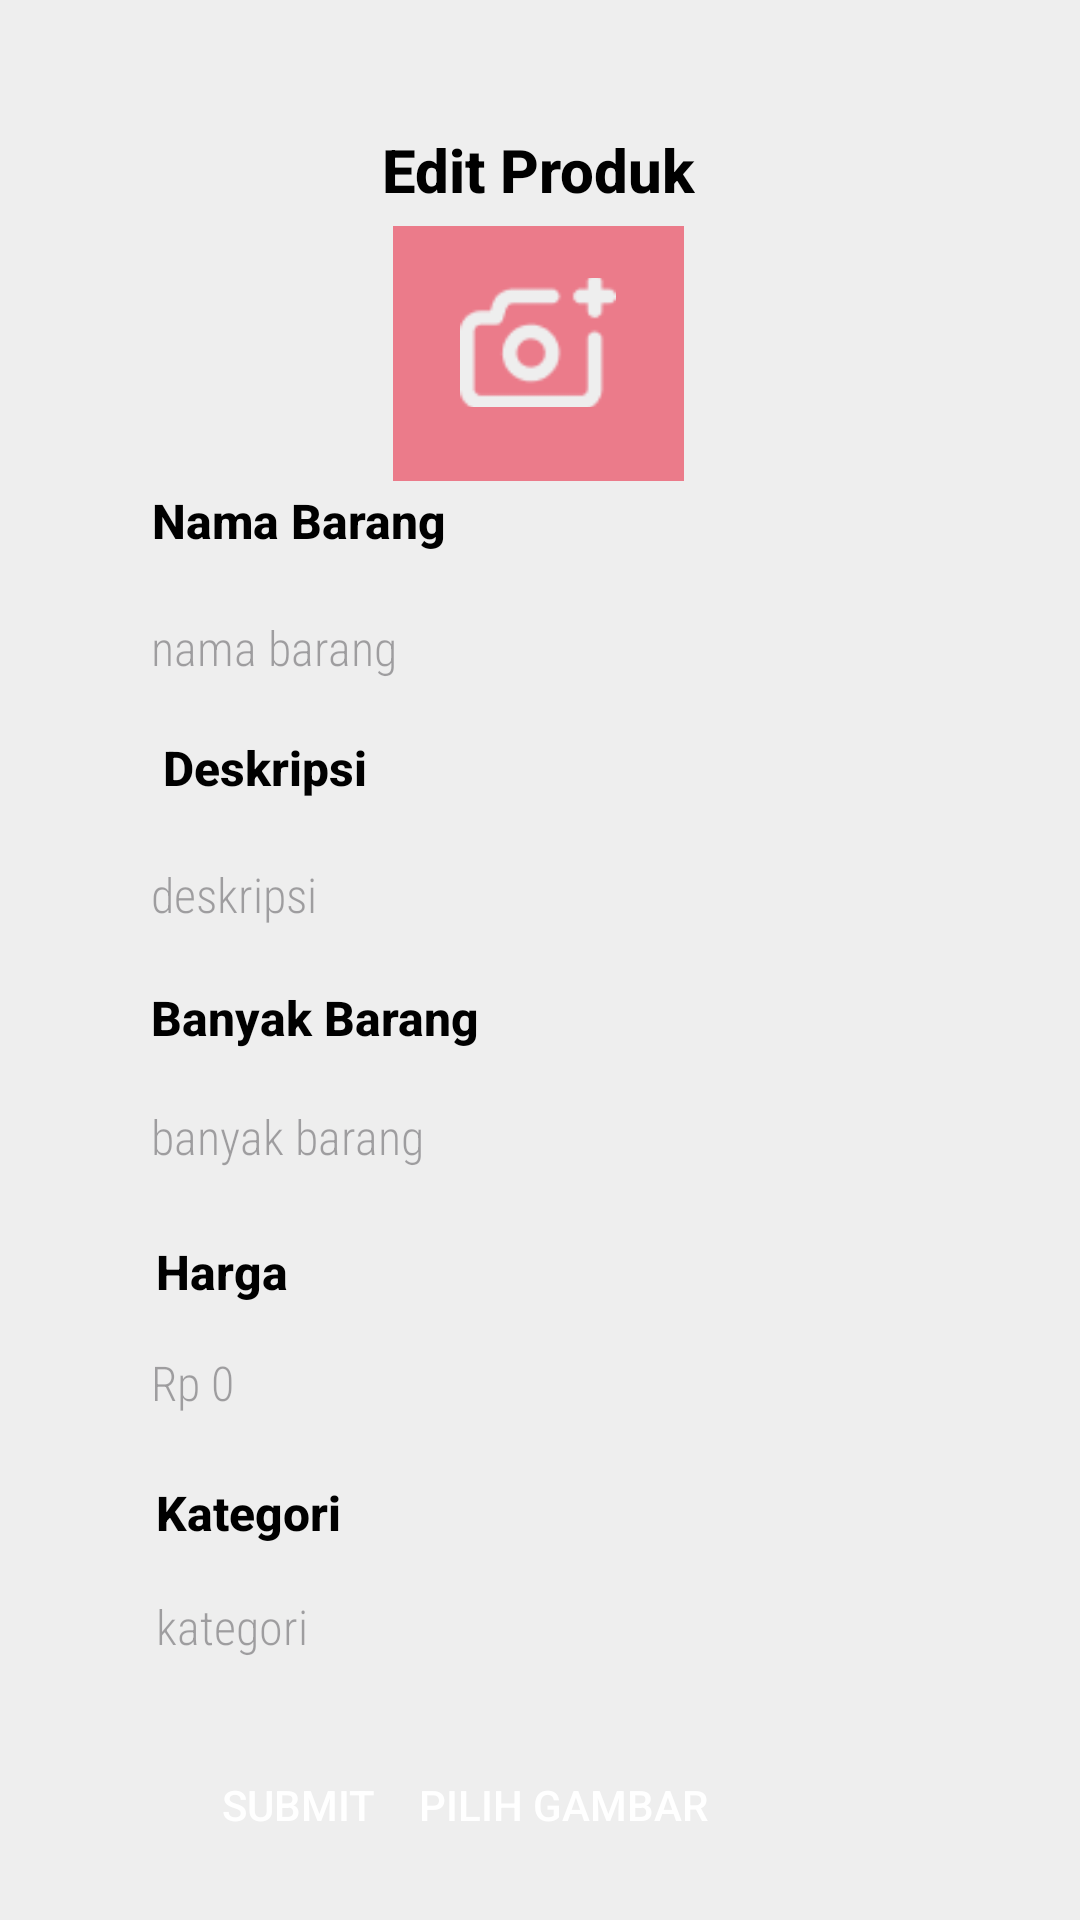

Screen size 1080w x 1920h. Icon name, then its box in pixels as {"x1": x1, "y1": y1, "x2": x2, "y2": y2}:
camera: {"x1": 460, "y1": 278, "x2": 616, "y2": 407}
